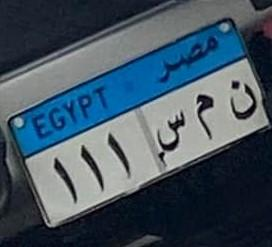1: (108, 124, 139, 182), (78, 142, 105, 193), (52, 154, 77, 207)
meem: (193, 88, 219, 146)
noon: (224, 78, 259, 127)
seen: (156, 106, 189, 157)
